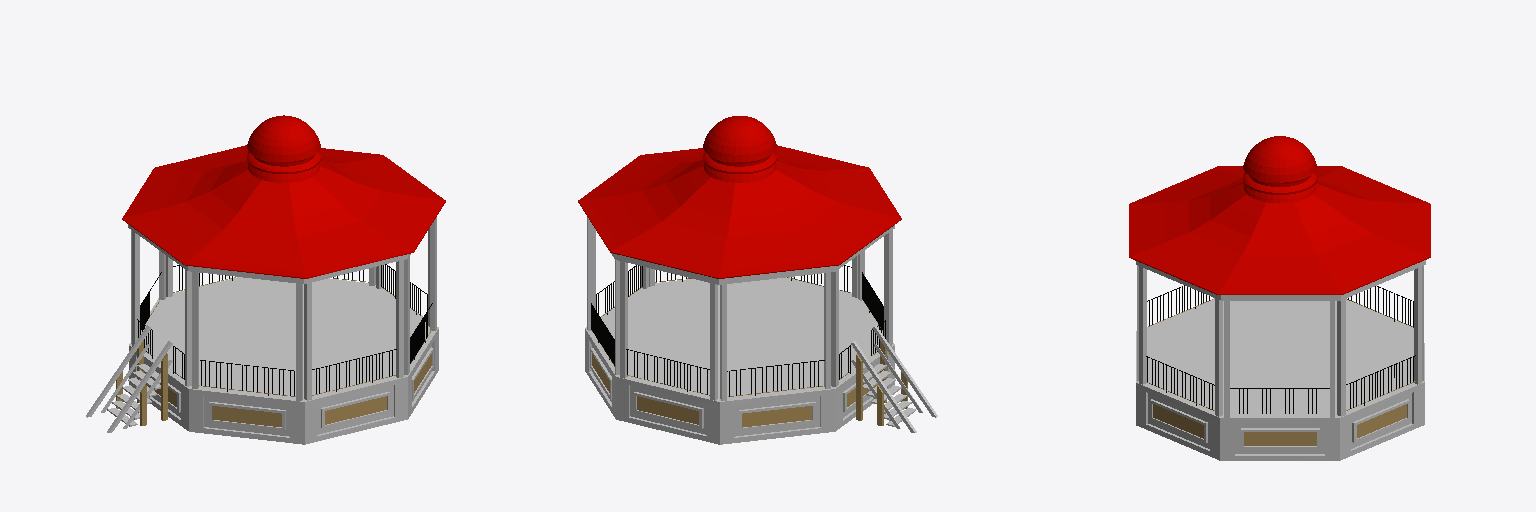
The model's file is Bandstand.obj.
3 renders of one model, left to right at view 1: azimuth 30°, elevation 25°; view 2: azimuth 150°, elevation 25°; view 3: azimuth 270°, elevation 25°, orthographic.
Visible parts, largest first — view 1: Rotunda; view 2: Rotunda; view 3: Rotunda.
Part boxes in pixels (bbox=[...]): Rotunda: bbox=[86, 115, 445, 444]; Rotunda: bbox=[578, 116, 937, 444]; Rotunda: bbox=[1129, 136, 1430, 460].
Size of the model in its own units: 15.61 by 12.22 by 12.85.